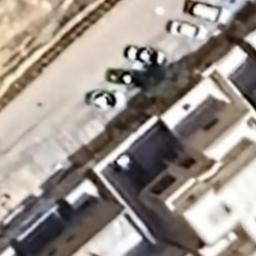SUV: (184, 0, 232, 27)
sedan: (124, 44, 172, 68), (104, 66, 156, 86), (165, 19, 210, 42)
unknown: (84, 88, 130, 112)
